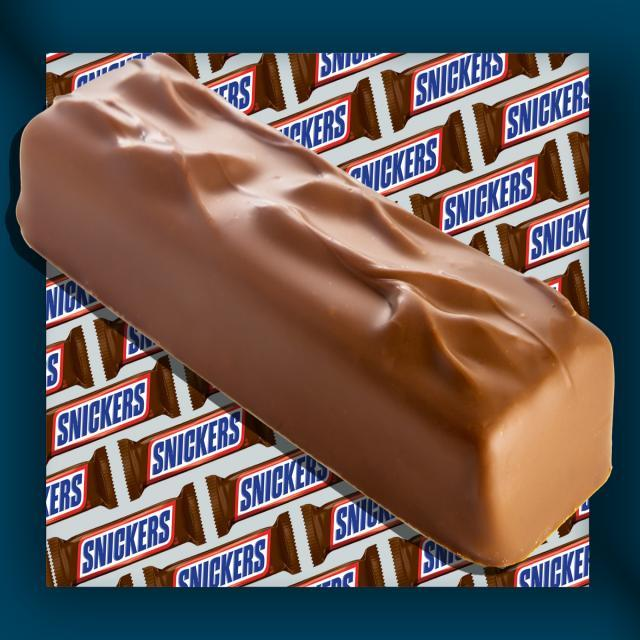Chocolate bar packaged: (18, 56, 619, 569)
